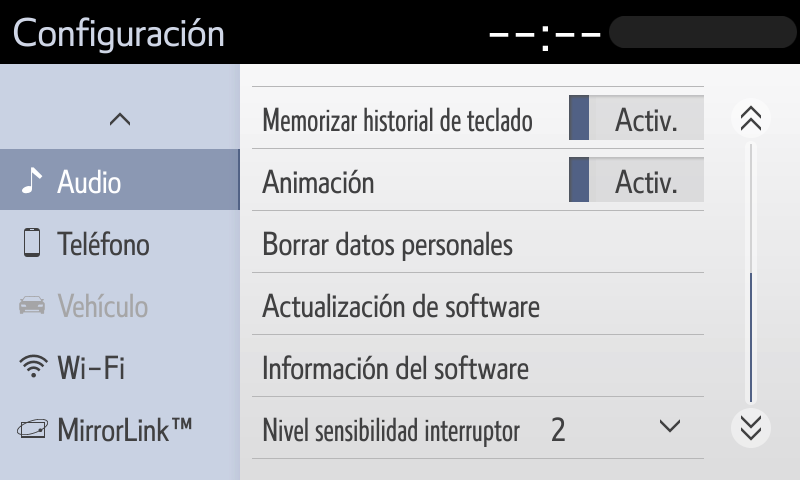touchPart: (253, 207, 710, 288), (255, 143, 708, 221), (246, 330, 714, 401), (250, 270, 713, 341), (254, 80, 709, 152), (247, 392, 711, 458), (21, 409, 203, 450), (17, 220, 155, 264), (21, 340, 142, 386), (727, 407, 788, 458), (730, 95, 776, 137), (108, 108, 143, 138)
untouchPart: (1, 144, 241, 215), (474, 12, 799, 55), (8, 7, 226, 56), (13, 283, 155, 328)
